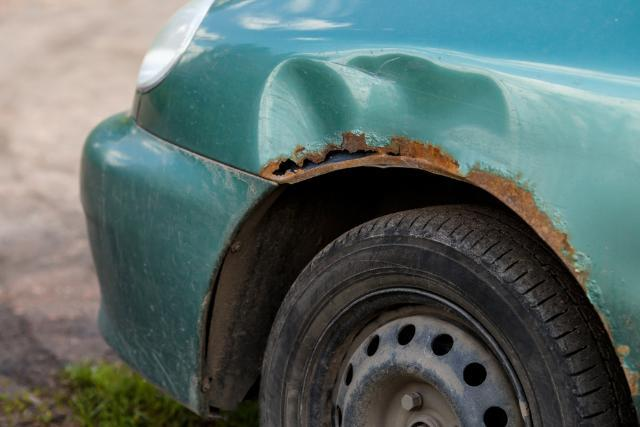Bumper: (211, 32, 640, 413)
